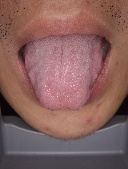tongue: (22, 41, 104, 111)
